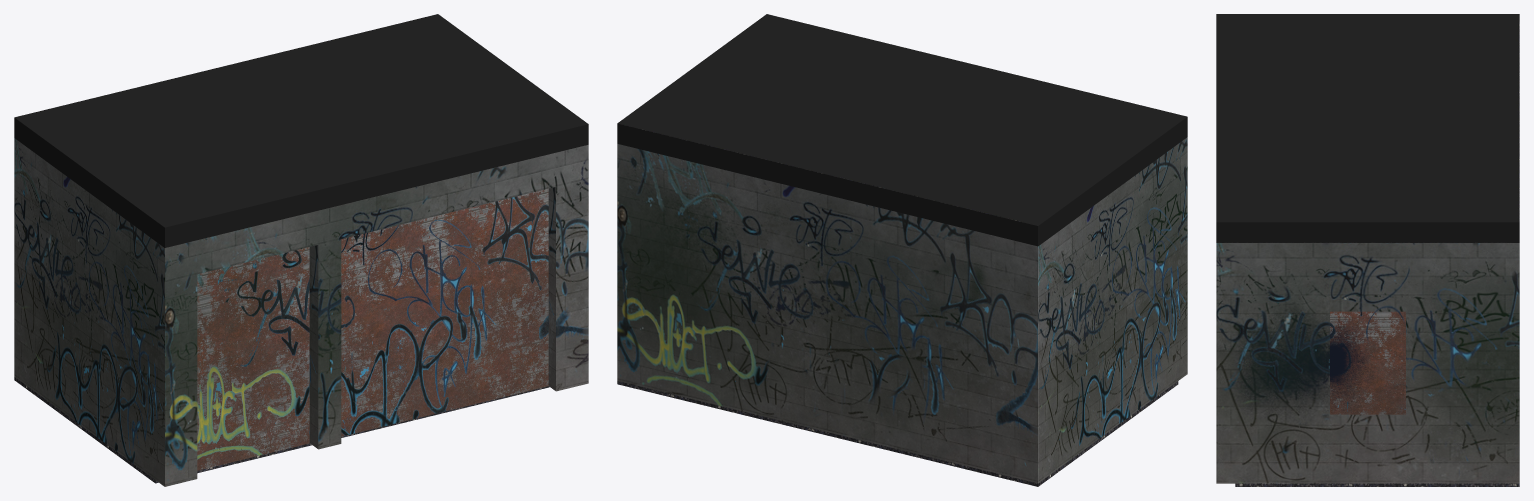
Rendered from old_petrol_station_shop.glb.
The picture shows the model from 3 angles, left to right: view 1: azimuth 30°, elevation 25°; view 2: azimuth 150°, elevation 25°; view 3: azimuth 270°, elevation 25°; orthographic projection.
Visible parts, largest first — view 1: Floor, Building, door; view 2: Building, Floor; view 3: Floor, Building, door.
Part boxes in pixels (left/top/right/bottom): Floor: left=14, top=14, right=588, bottom=483; Building: left=14, top=138, right=588, bottom=486; door: left=197, top=188, right=548, bottom=470; Building: left=617, top=137, right=1187, bottom=483; Floor: left=617, top=14, right=1187, bottom=486; Floor: left=1216, top=14, right=1519, bottom=486; Building: left=1216, top=243, right=1519, bottom=483; door: left=1330, top=311, right=1405, bottom=414.
Size of the model in its own units: 2 by 1.18 by 1.23.
3 materials, 3 textured.
